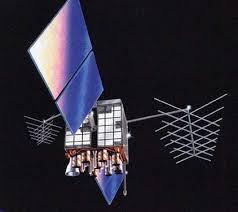antenna: (152, 91, 230, 165), (23, 112, 66, 146)
body: (63, 97, 131, 165)
solar: (25, 0, 106, 137), (89, 160, 127, 205)
thruster: (63, 153, 81, 177), (87, 156, 98, 179), (90, 149, 102, 170), (103, 153, 113, 177), (112, 157, 124, 175), (103, 156, 113, 176), (96, 148, 109, 163), (70, 153, 82, 169), (80, 149, 92, 164), (111, 151, 120, 166)
